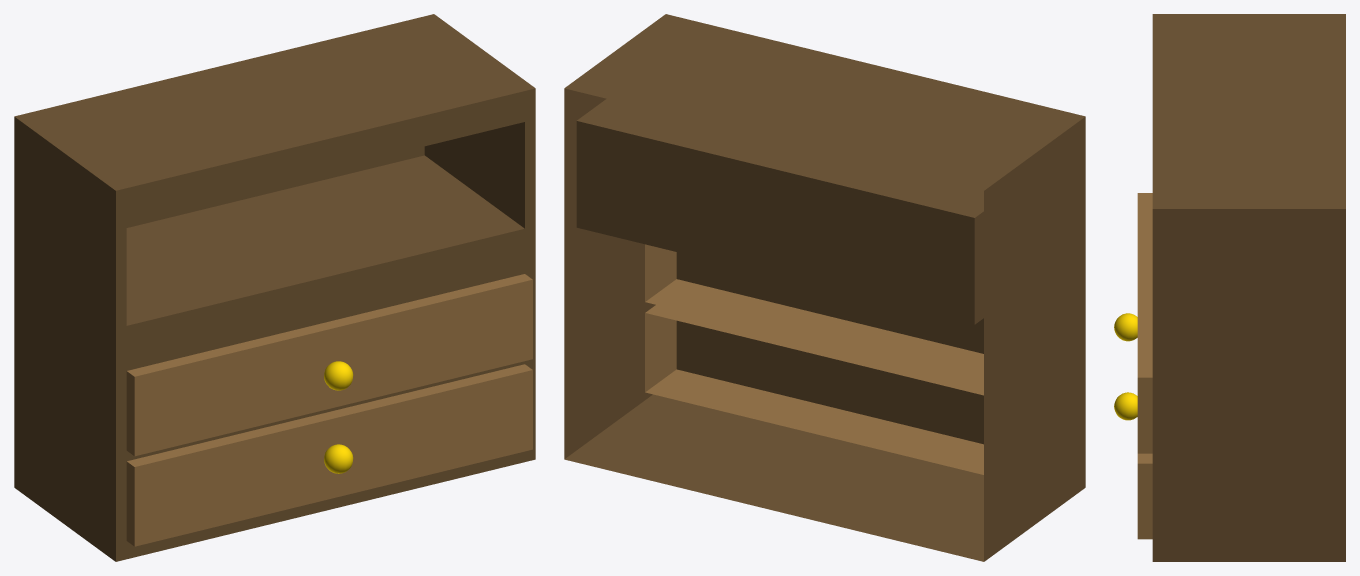
The model's file is 3chest.fbx.
3 views of the same model, side by side, from view 1: azimuth 30°, elevation 25°; view 2: azimuth 150°, elevation 25°; view 3: azimuth 270°, elevation 25° (orthographic). The views are drawn at different scales.
Visible parts, largest first — view 1: 3chest; view 2: 3chest; view 3: 3chest.
Boxes of the visible parts, x1,y1,x2,y2 form: 3chest: [14, 14, 535, 561]; 3chest: [564, 14, 1085, 561]; 3chest: [1114, 14, 1345, 561].
Size of the model in its own units: 51.15 by 43.2 by 25.71.
